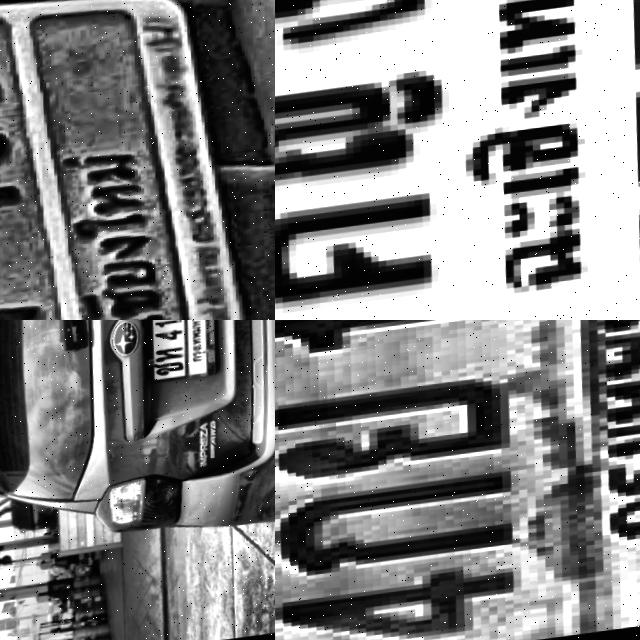license-plate: (275, 0, 640, 320), (275, 320, 640, 640), (0, 0, 275, 320), (143, 320, 224, 386)
